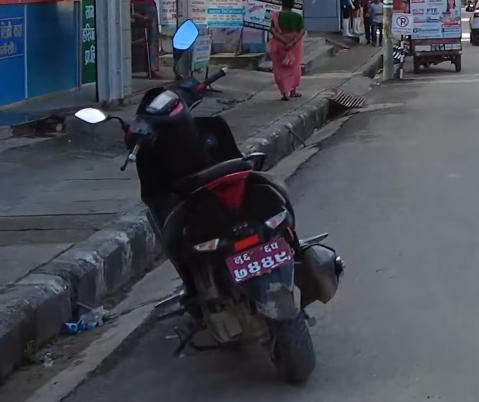scooter: (64, 60, 341, 392)
